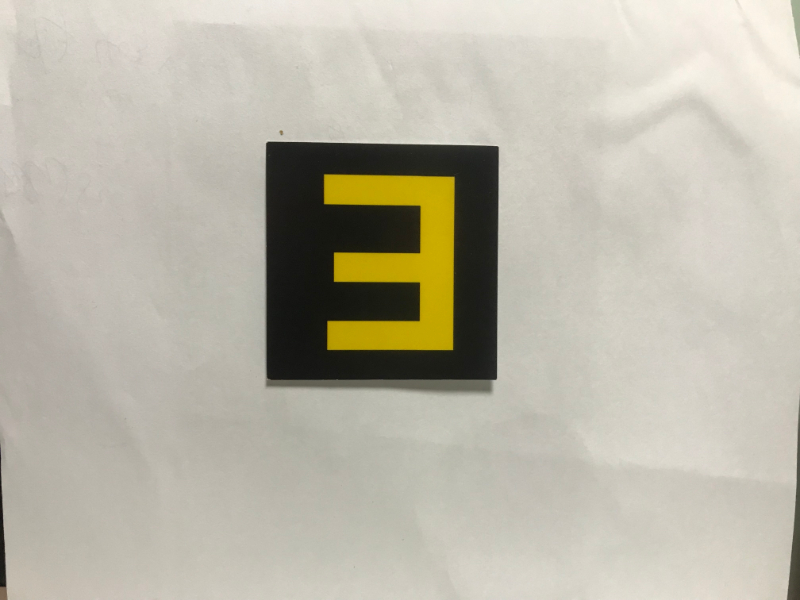E-15: (271, 148, 492, 376)
